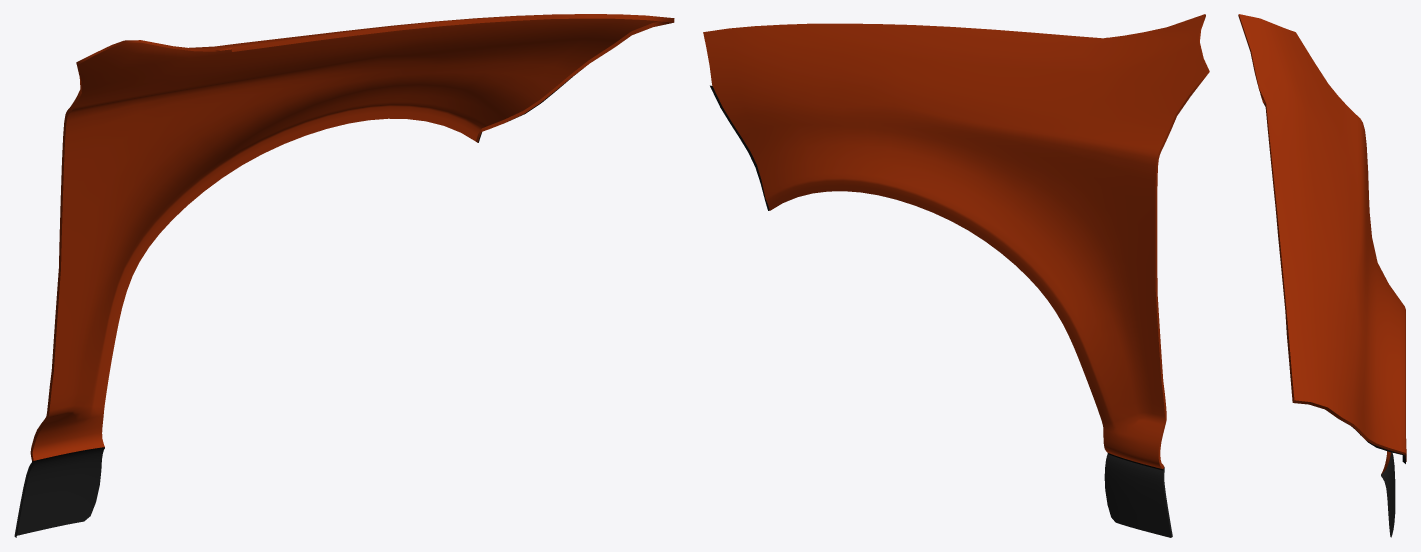
3 views of the same model, side by side, from view 1: azimuth 30°, elevation 25°; view 2: azimuth 150°, elevation 25°; view 3: azimuth 270°, elevation 25° (orthographic). The views are drawn at different scales.
Parts seen in each view (by area): view 1: U236_17_121B_L_U236_17_121B_L_1_DaS, U236_17_121B_L_U236_17_121B_L_2_D, U236_17_121B_L_U236_17_121B_L_1_DaS_E; view 2: U236_17_121B_L_U236_17_121B_L_1_DaS, U236_17_121B_L_U236_17_121B_L_2_D, U236_17_121B_L_U236_17_121B_L_1_DaS_E; view 3: U236_17_121B_L_U236_17_121B_L_1_DaS, U236_17_121B_L_U236_17_121B_L_1_DaS_E, U236_17_121B_L_U236_17_121B_L_2_D.
Part boxes in pixels (box(x1,y1,x2,y2)): U236_17_121B_L_U236_17_121B_L_1_DaS: box(32, 14, 658, 460); U236_17_121B_L_U236_17_121B_L_2_D: box(14, 448, 104, 537); U236_17_121B_L_U236_17_121B_L_1_DaS_E: box(30, 14, 674, 461); U236_17_121B_L_U236_17_121B_L_1_DaS: box(703, 14, 1208, 468); U236_17_121B_L_U236_17_121B_L_2_D: box(1104, 454, 1172, 537); U236_17_121B_L_U236_17_121B_L_1_DaS_E: box(1106, 14, 1209, 468); U236_17_121B_L_U236_17_121B_L_1_DaS: box(1239, 14, 1406, 474); U236_17_121B_L_U236_17_121B_L_1_DaS_E: box(1238, 14, 1406, 461); U236_17_121B_L_U236_17_121B_L_2_D: box(1381, 452, 1395, 537).
Bounding box in the file's own units: 99.03 × 85.36 × 25.42.
